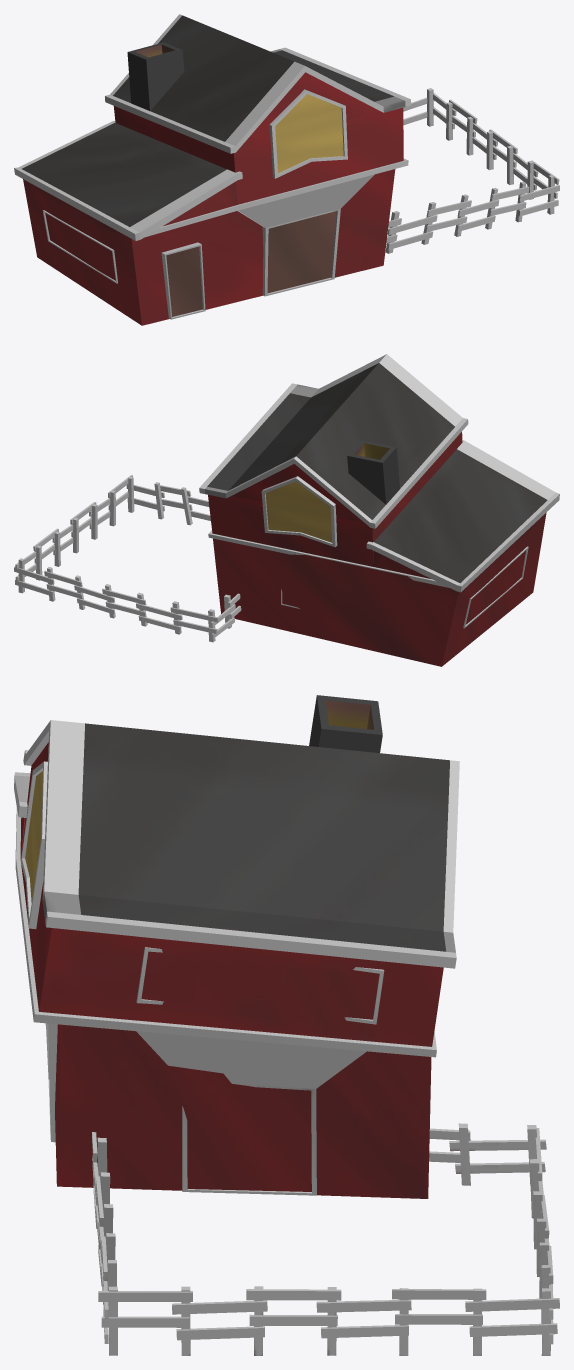
File: establo.fbx
The picture shows the model from 3 angles, top to bottom: view 1: azimuth 30°, elevation 25°; view 2: azimuth 150°, elevation 25°; view 3: azimuth 270°, elevation 25°; orthographic projection. The views are drawn at different scales.
Parts seen in each view (by area): view 1: barn; view 2: barn; view 3: barn.
Part boxes in pixels (box(x1,y1,x2,y2)): barn: box(14, 14, 559, 325); barn: box(14, 354, 559, 666); barn: box(14, 695, 559, 1355).
Size of the model in its own units: 2612 by 1261 by 1506.
Materials: 1 (1 with a texture image).
